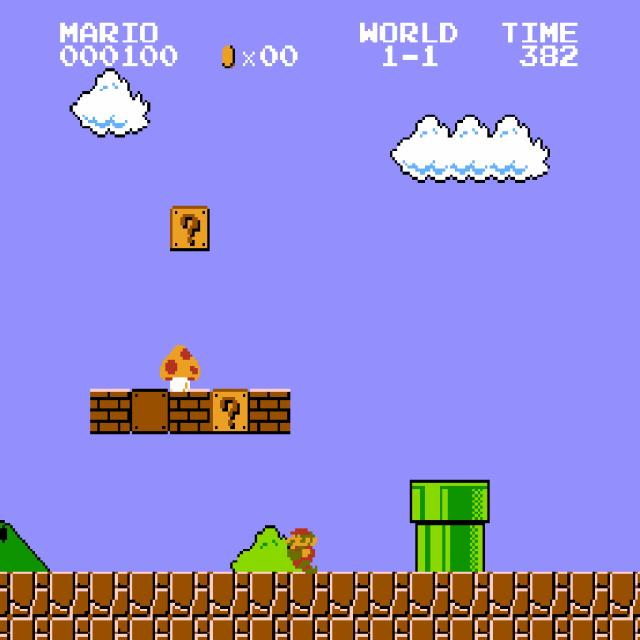brick_block: (90, 389, 130, 434), (170, 389, 210, 434), (250, 389, 290, 434)
empty_block: (130, 389, 170, 434)
little_mario: (277, 526, 320, 574)
mushroom: (158, 343, 200, 391)
mystery_block: (170, 206, 210, 251), (210, 389, 250, 434)
pipe: (410, 526, 450, 571), (450, 526, 490, 571)
pipe_head: (410, 480, 450, 526), (450, 480, 490, 526)
undestructible_block: (10, 572, 50, 617), (50, 572, 90, 617), (90, 572, 130, 617), (130, 572, 170, 617), (170, 572, 210, 617), (210, 572, 250, 617), (250, 572, 290, 617), (290, 572, 330, 617), (330, 572, 370, 617), (370, 572, 410, 617), (410, 572, 450, 617), (450, 572, 490, 617), (490, 572, 530, 617), (530, 572, 570, 617), (570, 572, 610, 617), (610, 572, 640, 617), (10, 617, 50, 640), (50, 617, 90, 640), (90, 617, 130, 640), (130, 617, 170, 640), (170, 617, 210, 640), (210, 617, 250, 640), (250, 617, 290, 640), (290, 617, 330, 640), (330, 617, 370, 640), (370, 617, 410, 640), (410, 617, 450, 640), (450, 617, 490, 640), (490, 617, 530, 640), (530, 617, 570, 640), (570, 617, 610, 640), (610, 617, 640, 640), (0, 571, 10, 617), (0, 617, 10, 639)
